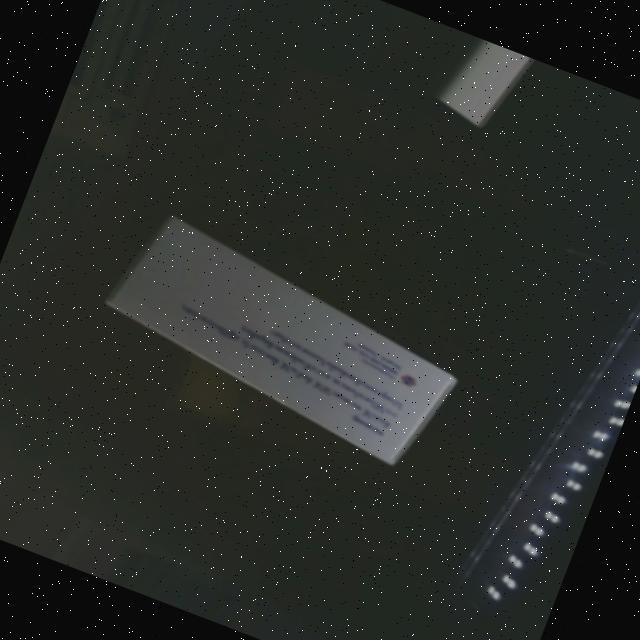sefloc: (90, 202, 476, 475)
